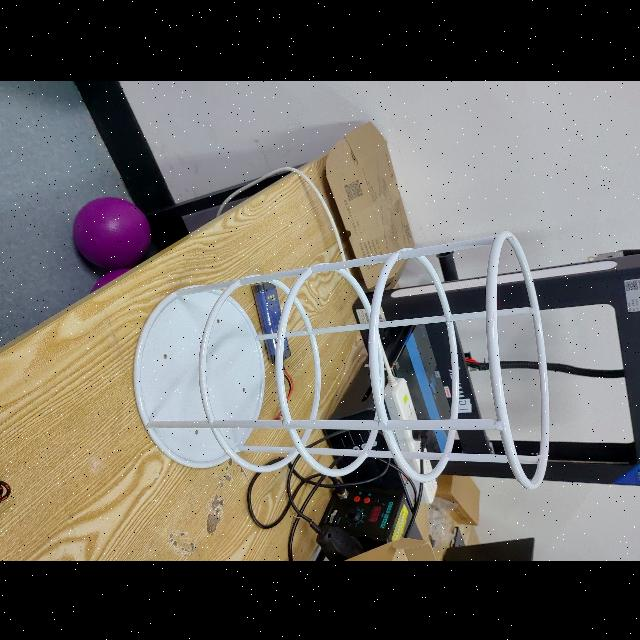S: (125, 223, 557, 493)
